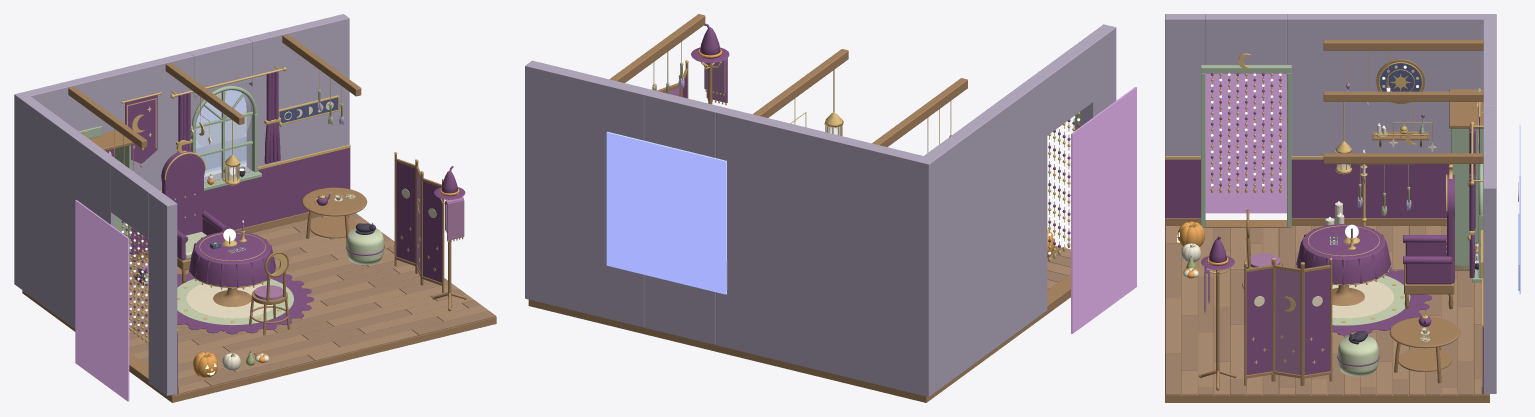
File: 1Nashas_Cozy_Fortune_Teller.fbx
3 views of the same model, side by side, from view 1: azimuth 30°, elevation 25°; view 2: azimuth 150°, elevation 25°; view 3: azimuth 270°, elevation 25° (orthographic). The views are drawn at different scales.
Parts seen in each view (by area): view 1: Left_Wall_Mesh, Back_Wall_Mesh, Parlor_Floor_Mesh, Moon_Folding_Screen_Mesh, Arched_Window_Mesh, Moon_Rug_Mesh, Reading_Table_Mesh, Teller_Armchair_Mesh, Roof_Beams_Mesh, Velvet_Curtains_Mesh, Moon_Tea_Table_Mesh, Moon_Tapestry_Mesh (+9 smaller); view 2: Back_Wall_Mesh, Left_Wall_Mesh, Arched_Window_Mesh, Parlor_Floor_Mesh, Roof_Beams_Mesh, Beaded_Doorway_Mesh, Hat_Stand_Mesh, Witch_Hat_Mesh; view 3: Left_Wall_Mesh, Parlor_Floor_Mesh, Moon_Folding_Screen_Mesh, Back_Wall_Mesh, Beaded_Doorway_Mesh, Roof_Beams_Mesh, Reading_Table_Mesh, Teller_Armchair_Mesh, Moon_Rug_Mesh, Curio_Cabinet_Mesh, Moon_Tea_Table_Mesh, Velvet_Pouf_Mesh (+11 smaller).
Boxes of the visible parts, box(x1,y1,x2,y2) form: Left_Wall_Mesh: box(14, 93, 178, 401); Back_Wall_Mesh: box(20, 14, 350, 261); Parlor_Floor_Mesh: box(22, 213, 496, 402); Moon_Folding_Screen_Mesh: box(394, 152, 444, 292); Arched_Window_Mesh: box(191, 83, 261, 190); Moon_Rug_Mesh: box(177, 270, 314, 334); Reading_Table_Mesh: box(189, 231, 275, 306); Teller_Armchair_Mesh: box(161, 140, 228, 283); Roof_Beams_Mesh: box(68, 34, 361, 148); Velvet_Curtains_Mesh: box(170, 65, 286, 163); Moon_Tea_Table_Mesh: box(302, 187, 367, 244); Moon_Tapestry_Mesh: box(121, 92, 161, 167); Back_Wall_Mesh: box(525, 60, 928, 394); Left_Wall_Mesh: box(916, 24, 1136, 396); Arched_Window_Mesh: box(606, 131, 727, 294); Parlor_Floor_Mesh: box(528, 245, 1070, 402); Roof_Beams_Mesh: box(610, 14, 967, 146); Beaded_Doorway_Mesh: box(1047, 111, 1081, 307); Hat_Stand_Mesh: box(701, 58, 727, 105); Witch_Hat_Mesh: box(691, 23, 729, 62); Left_Wall_Mesh: box(1165, 14, 1496, 225); Parlor_Floor_Mesh: box(1165, 226, 1489, 402); Moon_Folding_Screen_Mesh: box(1244, 258, 1332, 385); Back_Wall_Mesh: box(1481, 16, 1496, 394); Beaded_Doorway_Mesh: box(1201, 53, 1291, 227); Roof_Beams_Mesh: box(1323, 40, 1483, 163); Reading_Table_Mesh: box(1296, 224, 1391, 305); Teller_Armchair_Mesh: box(1403, 164, 1454, 309); Moon_Rug_Mesh: box(1296, 266, 1432, 335); Curio_Cabinet_Mesh: box(1449, 88, 1483, 270); Moon_Tea_Table_Mesh: box(1389, 317, 1460, 383); Velvet_Pouf_Mesh: box(1337, 336, 1379, 376).
Size of the model in its own units: 551 by 292 by 438.
